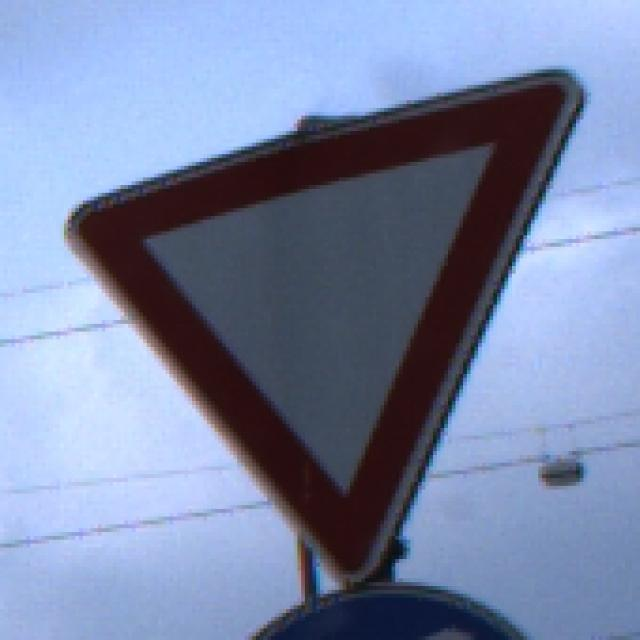give way: (59, 71, 601, 581)
